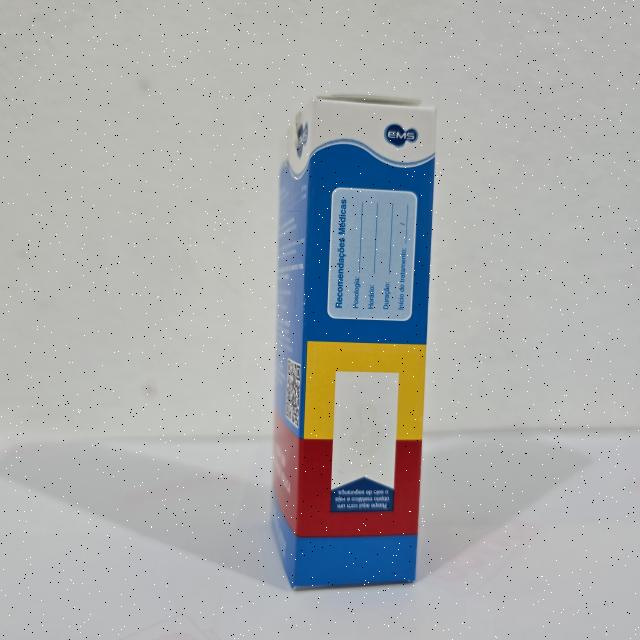prednisona: (267, 90, 439, 598)
